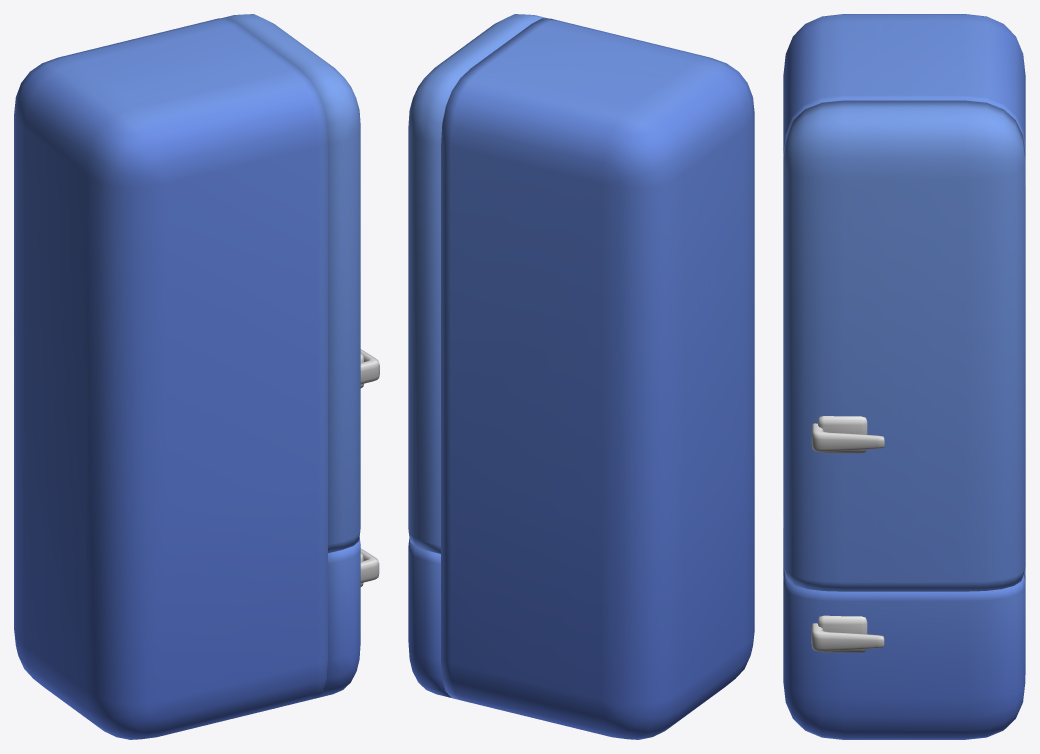
File: Refrigerator03.FBX
3 views of the same model, side by side, from view 1: azimuth 30°, elevation 25°; view 2: azimuth 150°, elevation 25°; view 3: azimuth 270°, elevation 25° (orthographic).
Parts seen in each view (by area): view 1: Refrigerator03, Door_01, Door_02; view 2: Refrigerator03, Door_01, Door_02; view 3: Door_01, Door_02, Refrigerator03.
Boxes of the visible parts, left/top/right/bottom form: Refrigerator03: left=14, top=18, right=327, bottom=739; Door_01: left=221, top=14, right=379, bottom=553; Door_02: left=317, top=538, right=379, bottom=697; Refrigerator03: left=441, top=18, right=754, bottom=739; Door_01: left=408, top=14, right=546, bottom=553; Door_02: left=408, top=538, right=451, bottom=697; Door_01: left=783, top=100, right=1025, bottom=591; Door_02: left=783, top=572, right=1025, bottom=739; Refrigerator03: left=783, top=14, right=1025, bottom=674.
Size of the model in its own units: 66.06 by 140 by 48.91.
